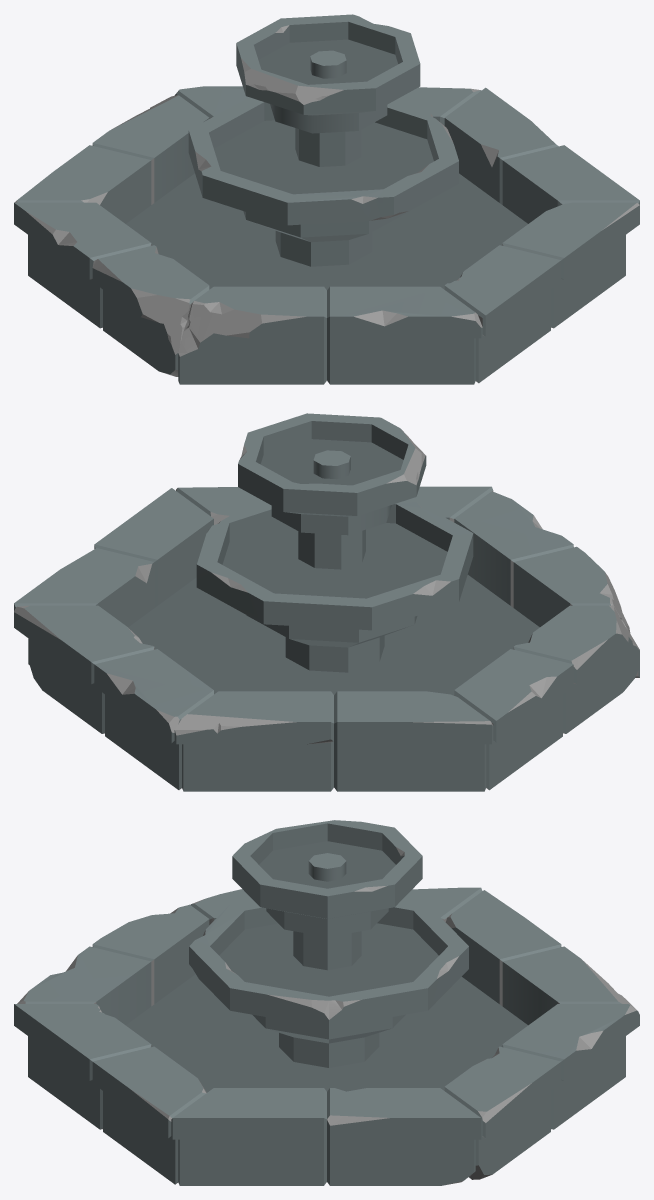
File: 20C_Fountain.fbx
3 renders of one model, top to bottom at view 1: azimuth 30°, elevation 25°; view 2: azimuth 150°, elevation 25°; view 3: azimuth 270°, elevation 25°, orthographic. The views are drawn at different scales.
Visible parts, largest first — view 1: 20C_Fountain; view 2: 20C_Fountain; view 3: 20C_Fountain.
Boxes of the visible parts, x1,y1,x2,y2 form: 20C_Fountain: (14, 14, 639, 384); 20C_Fountain: (14, 413, 639, 791); 20C_Fountain: (14, 820, 639, 1185).
Size of what is drawn, in the model's own units: 54.12 by 24.18 by 62.19.
